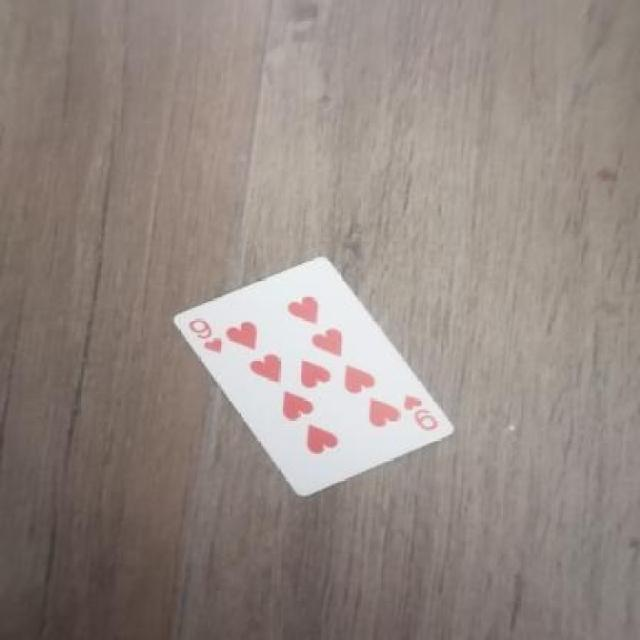9H: (392, 384, 446, 442), (174, 318, 232, 359)
